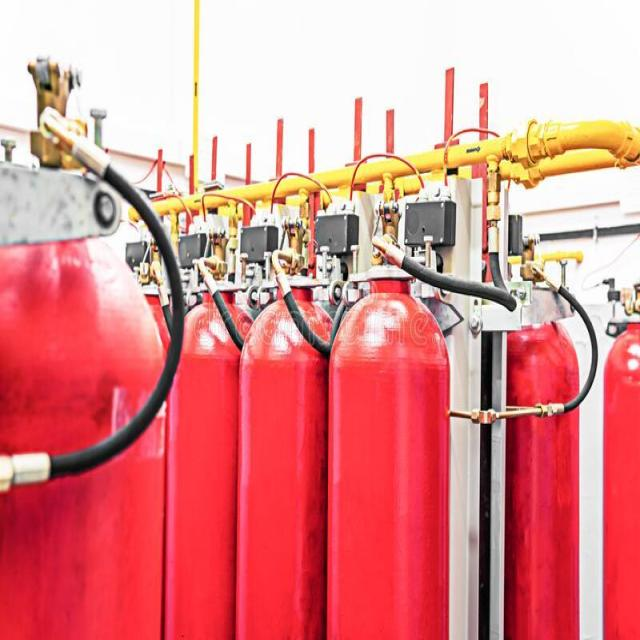fire_extinguisher: (0, 79, 191, 639), (320, 203, 524, 639), (229, 220, 354, 639), (160, 218, 272, 639), (481, 247, 600, 639), (595, 270, 639, 639)
